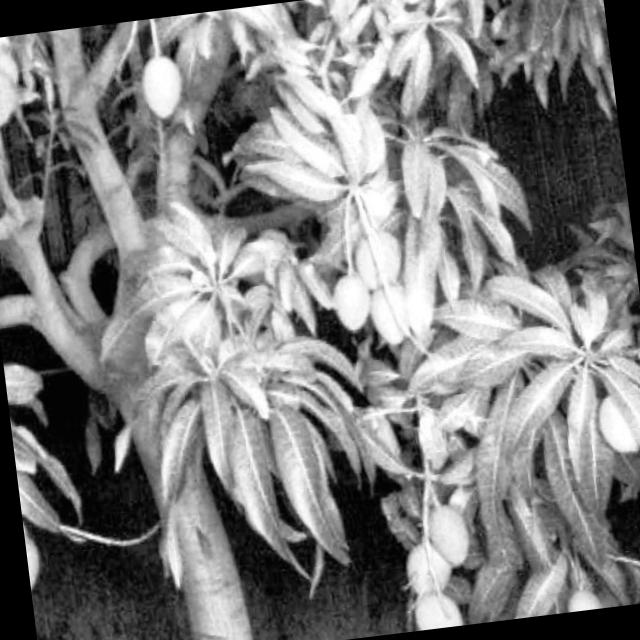Tree: (0, 5, 333, 640)
